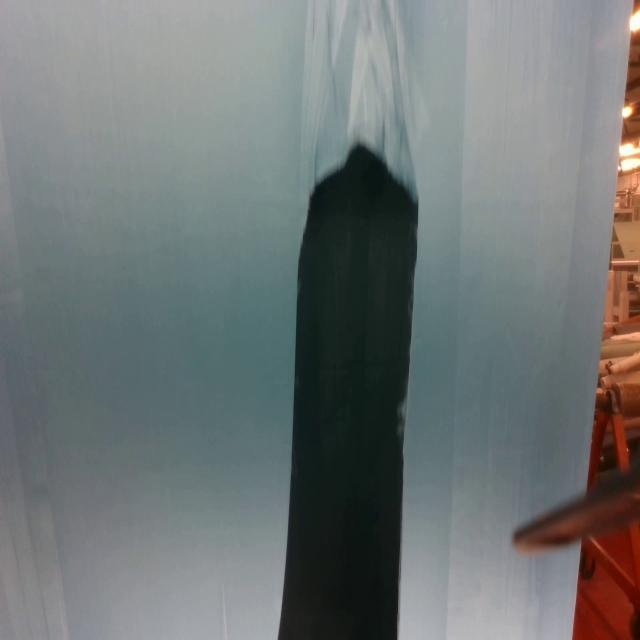crease: (1, 372, 52, 638), (500, 0, 515, 176)
hole: (278, 141, 420, 640)
